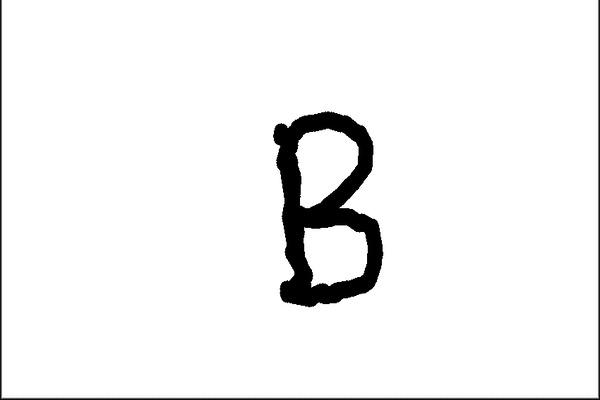B: (260, 99, 396, 315)
